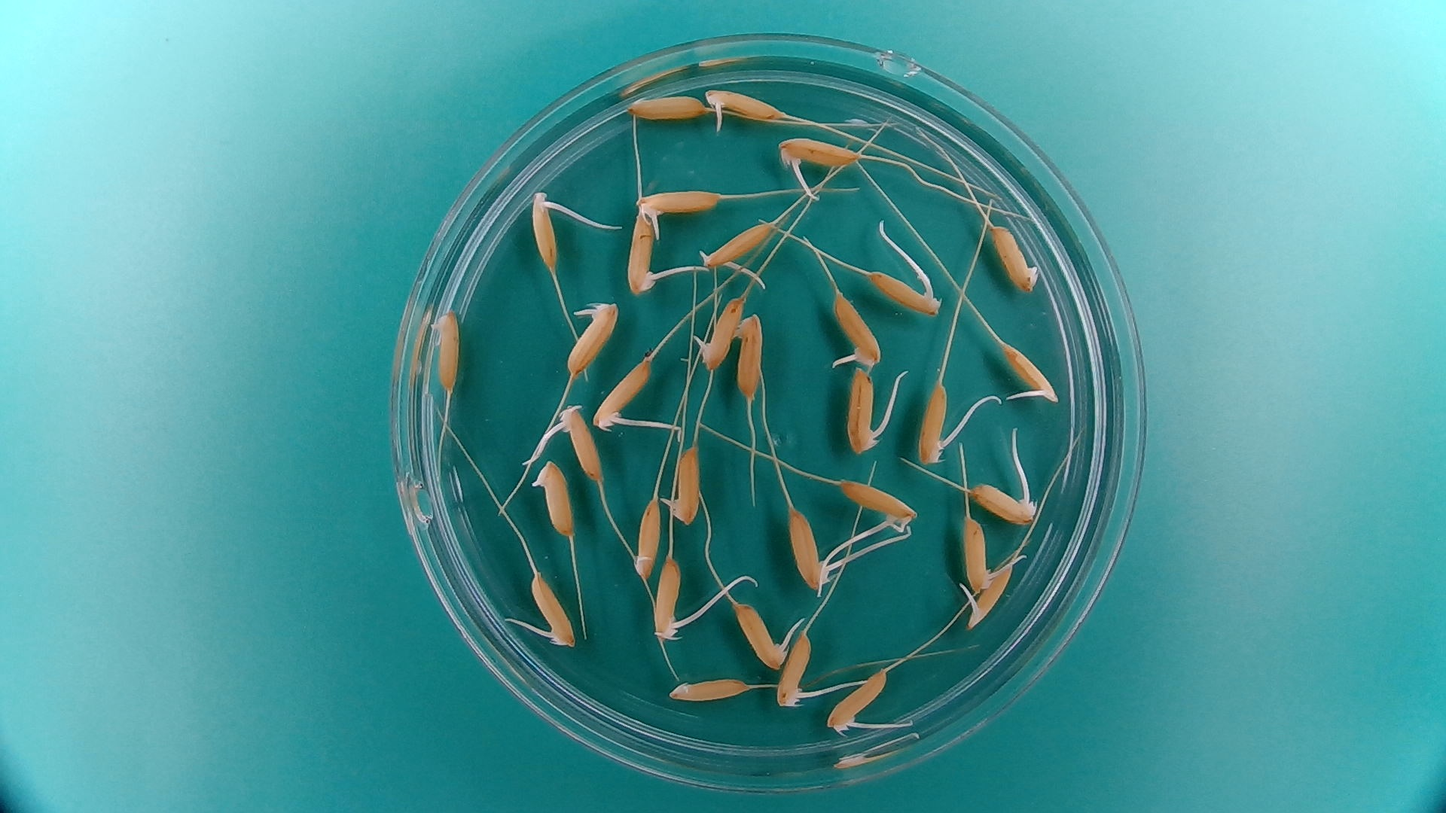no: (988, 218, 1043, 296), (623, 89, 712, 124), (733, 310, 767, 400), (429, 307, 461, 397), (664, 672, 755, 703), (630, 497, 662, 583)
yes: (593, 351, 655, 431), (834, 476, 920, 533), (565, 296, 622, 379), (695, 216, 779, 271), (731, 596, 791, 671), (830, 293, 885, 370), (784, 501, 832, 589), (998, 337, 1059, 406), (825, 667, 888, 733), (697, 293, 746, 372), (650, 553, 690, 647), (529, 458, 576, 538), (530, 572, 578, 650), (867, 270, 943, 317), (962, 563, 1014, 631), (558, 403, 602, 483), (663, 441, 703, 525), (969, 483, 1044, 527), (962, 514, 1002, 595), (636, 184, 727, 219), (846, 367, 880, 455), (776, 628, 813, 708), (775, 135, 862, 169), (917, 384, 951, 467), (705, 84, 783, 120), (624, 212, 657, 295), (528, 192, 561, 272)
